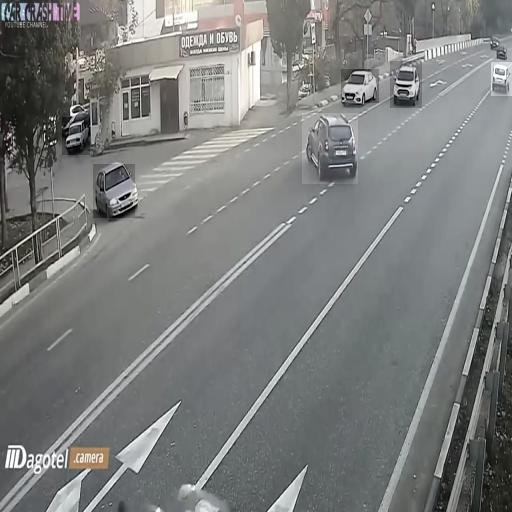小汽车: (302, 113, 358, 184), (93, 164, 135, 218), (390, 61, 422, 108), (341, 69, 379, 103), (62, 117, 90, 155), (491, 62, 512, 96)
